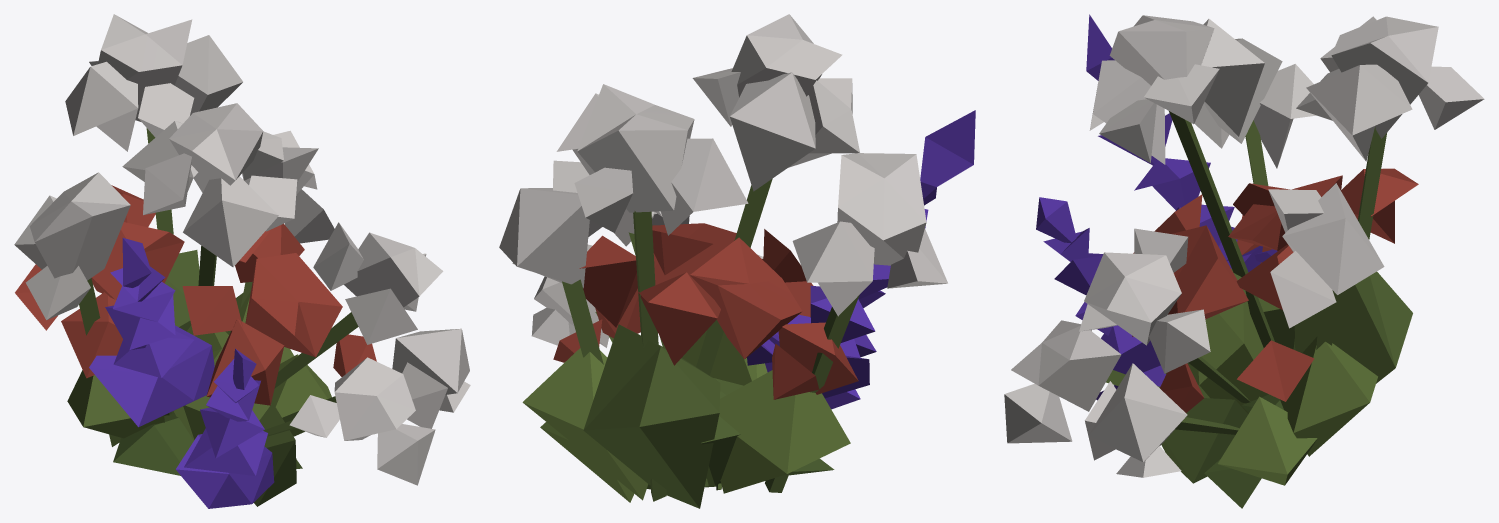
File: SM_Prop_Plant_Flower_04.obj
3 renders of one model, left to right at view 1: azimuth 30°, elevation 25°; view 2: azimuth 150°, elevation 25°; view 3: azimuth 270°, elevation 25°, orthographic. The views are drawn at different scales.
Parts seen in each view (by area): view 1: SM_Prop_Plant_Flower_04_0; view 2: SM_Prop_Plant_Flower_04_0; view 3: SM_Prop_Plant_Flower_04_0.
Boxes of the visible parts, x1,y1,x2,y2 form: SM_Prop_Plant_Flower_04_0: (14,14,470,508); SM_Prop_Plant_Flower_04_0: (499,14,975,508); SM_Prop_Plant_Flower_04_0: (1004,14,1484,508).
Bounding box in the file's own units: 0.4807 × 0.4797 × 0.4745.
1 material, 1 textured.
